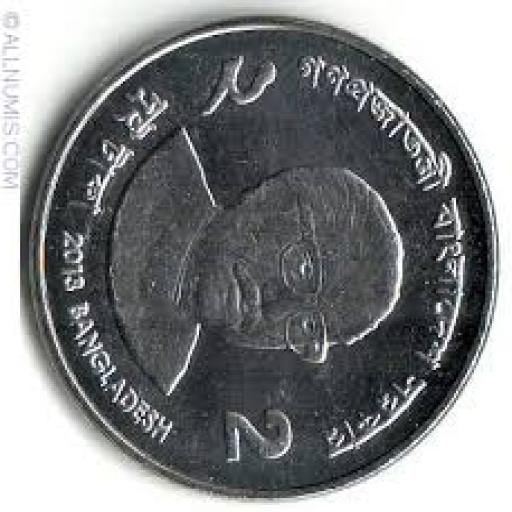2taka: (31, 21, 494, 496)
